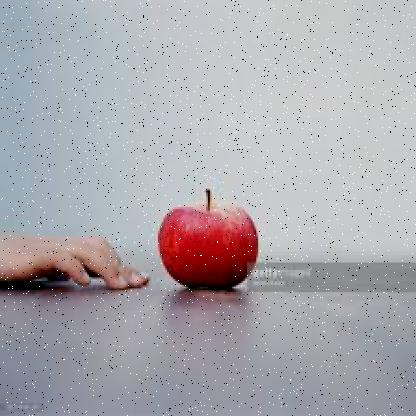apple: (148, 202, 260, 302)
